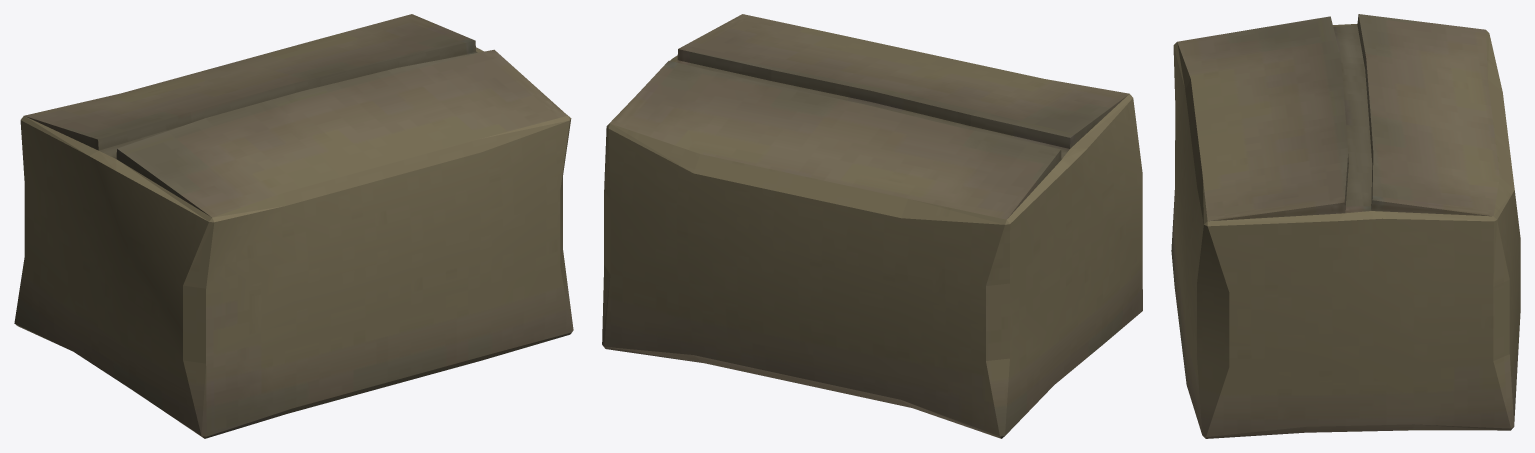
The model's file is PackagingBox.FBX.
3 renders of one model, left to right at view 1: azimuth 30°, elevation 25°; view 2: azimuth 150°, elevation 25°; view 3: azimuth 270°, elevation 25°, orthographic.
Visible parts, largest first — view 1: Box103; view 2: Box103; view 3: Box103.
Part boxes in pixels (x1,y1,x2,y2): Box103: [14, 14, 573, 438]; Box103: [602, 14, 1142, 438]; Box103: [1171, 14, 1520, 438].
Bounding box in the file's own units: 121 × 67 × 88.75.
1 material, 1 textured.
